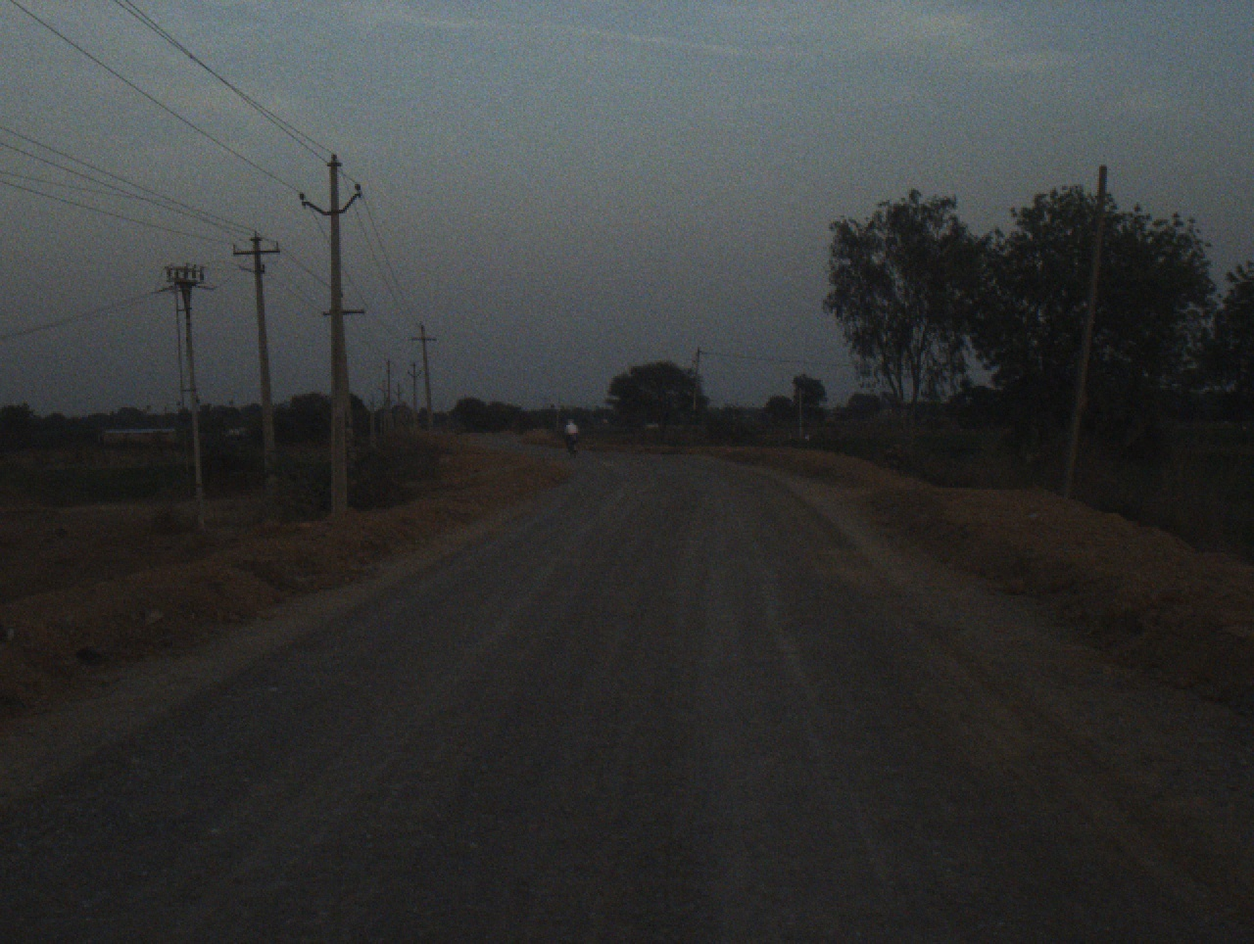bicycle: (565, 426, 576, 454)
rider: (559, 418, 580, 446)
